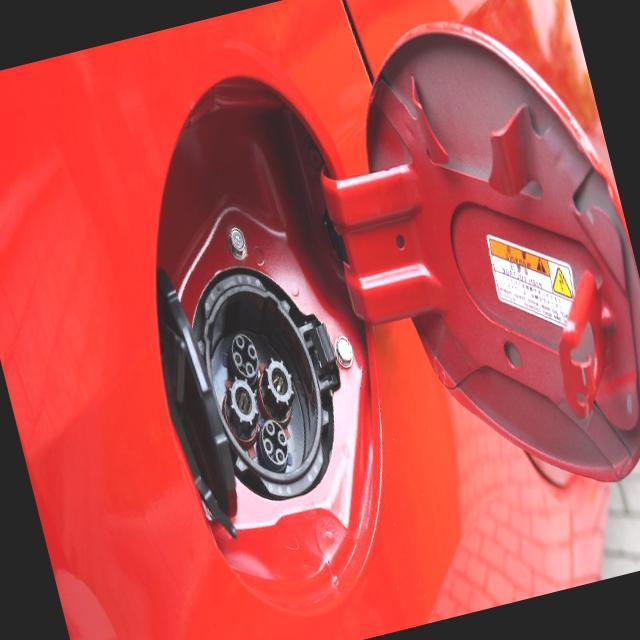CHAdeMO: (176, 248, 388, 526)
